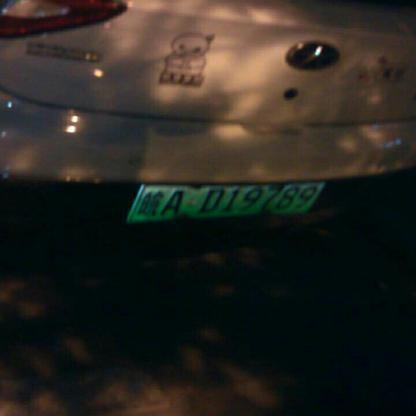lp: (126, 182, 322, 224)
